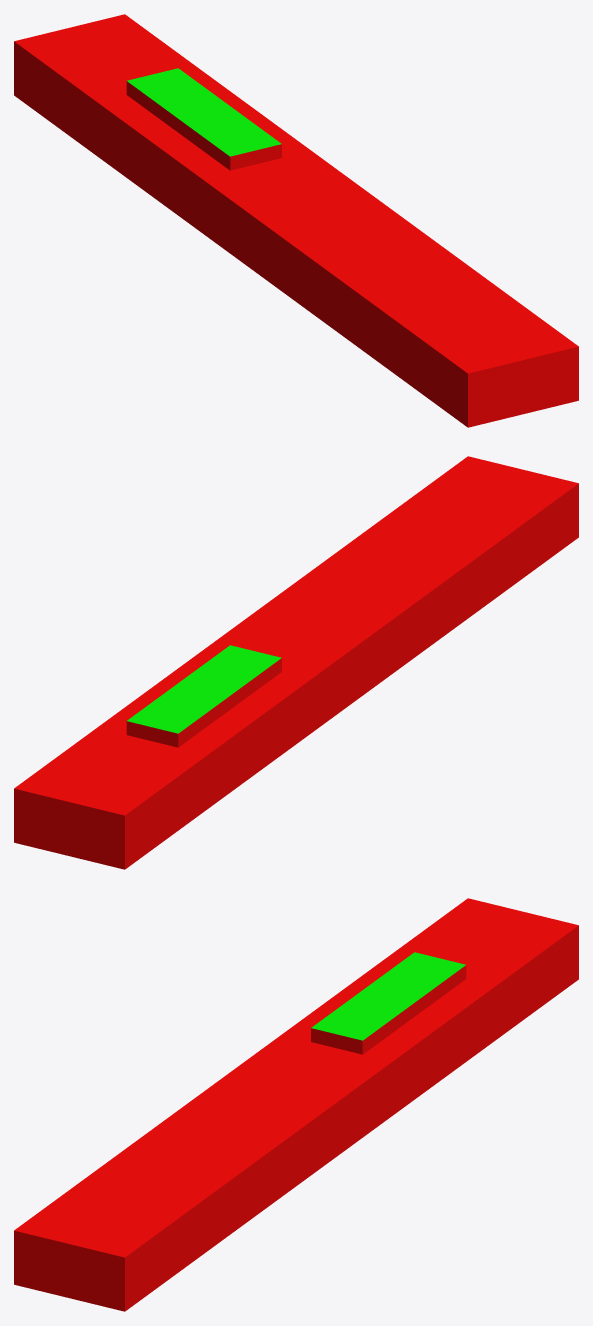
The model's file is labeled.obj.
3 renders of one model, top to bottom at view 1: azimuth 30°, elevation 25°; view 2: azimuth 150°, elevation 25°; view 3: azimuth 330°, elevation 25°, orthographic.
Size of the model in its own units: 0.0204 by 0.012 by 0.1445.
